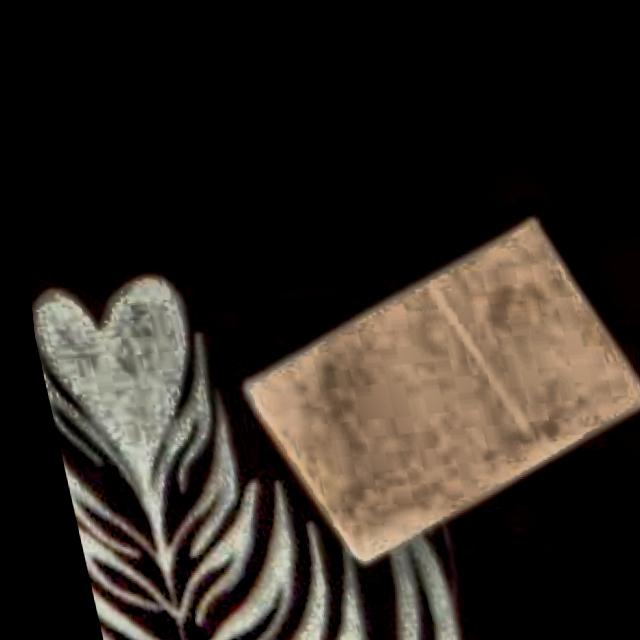Paper-bag: (191, 188, 640, 598)
